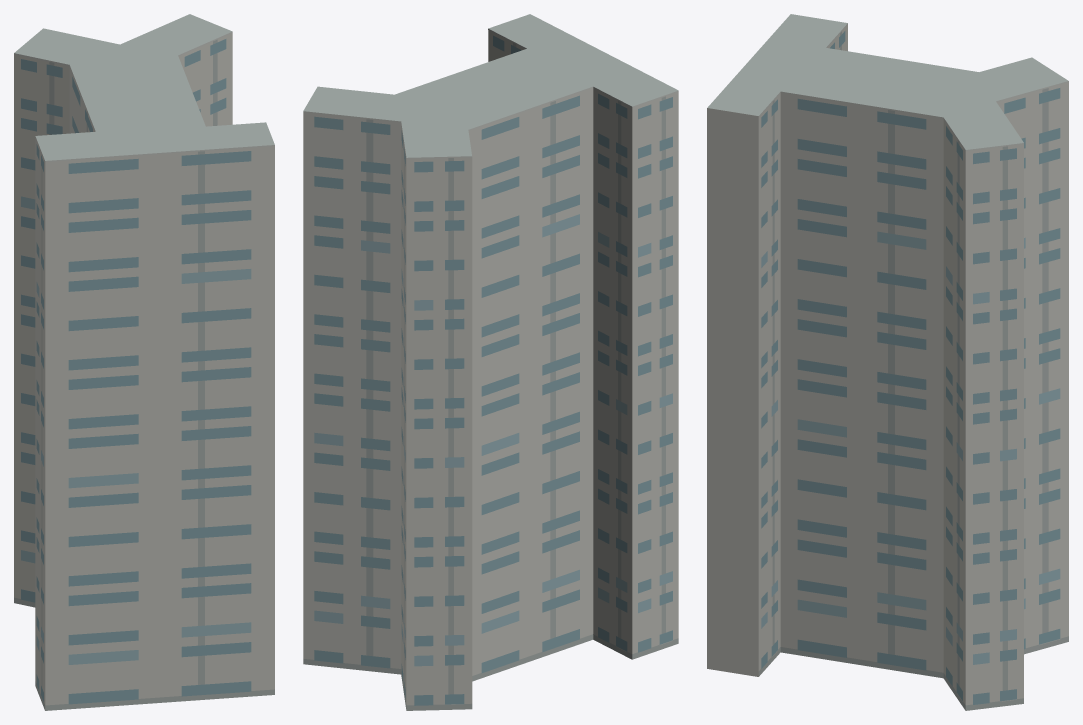
File: residential-85280d2d-12fb-4d51-850e-77980804b97f.glb
3 views of the same model, side by side, from view 1: azimuth 30°, elevation 25°; view 2: azimuth 150°, elevation 25°; view 3: azimuth 270°, elevation 25° (orthographic).
Visible parts, largest first — view 1: residential-85280d2d-12fb-4d51-850e-77980804b97f.tmp; view 2: residential-85280d2d-12fb-4d51-850e-77980804b97f.tmp; view 3: residential-85280d2d-12fb-4d51-850e-77980804b97f.tmp.
Boxes of the visible parts, <box> form: residential-85280d2d-12fb-4d51-850e-77980804b97f.tmp: <box>14,14,274,710</box>; residential-85280d2d-12fb-4d51-850e-77980804b97f.tmp: <box>303,14,678,710</box>; residential-85280d2d-12fb-4d51-850e-77980804b97f.tmp: <box>707,14,1068,710</box>.
Bounding box in the file's own units: 52.03 × 100 × 58.45.
